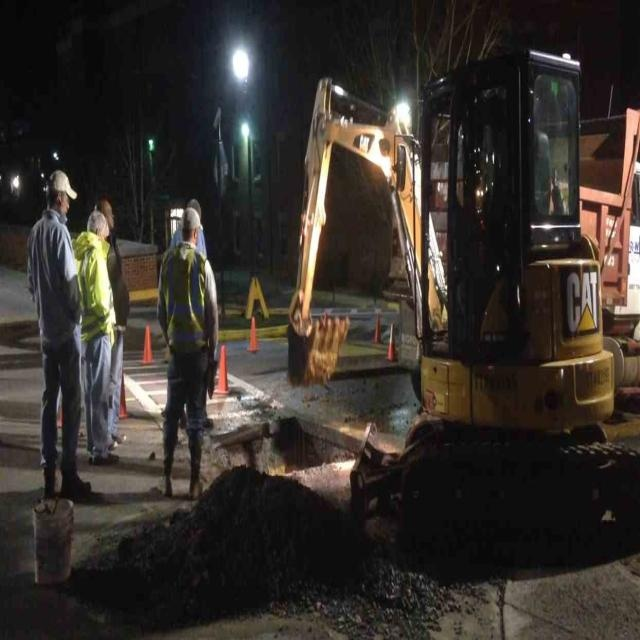Con_Chaleco: (159, 244, 212, 359)
Sin_Casco_Mascarrilla: (50, 170, 78, 220), (88, 208, 109, 248)
